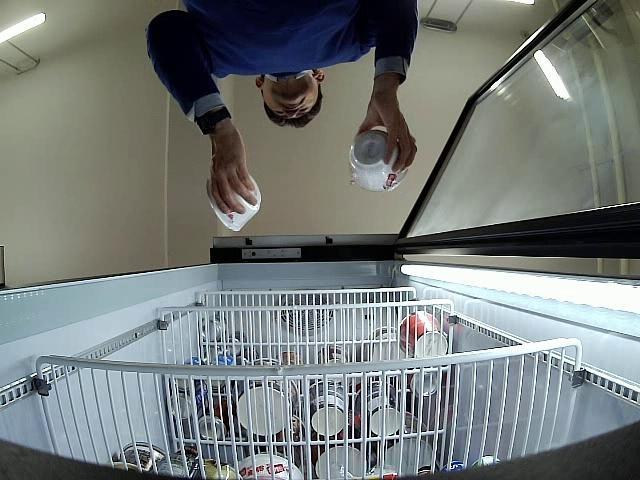09_yukGaeJang: (348, 130, 408, 192), (208, 174, 260, 232)
